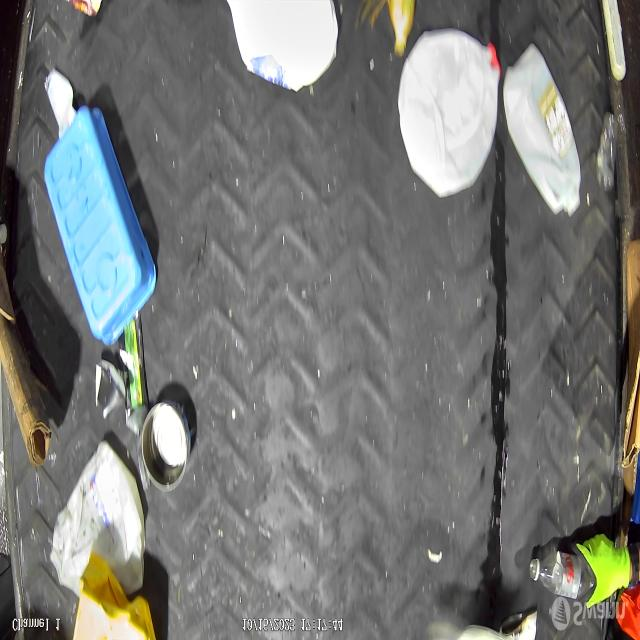can: (140, 389, 197, 489)
milk_jug: (393, 29, 499, 200), (47, 441, 146, 598), (504, 39, 582, 218), (227, 0, 342, 96)
plastic_bottle: (526, 535, 598, 600)
